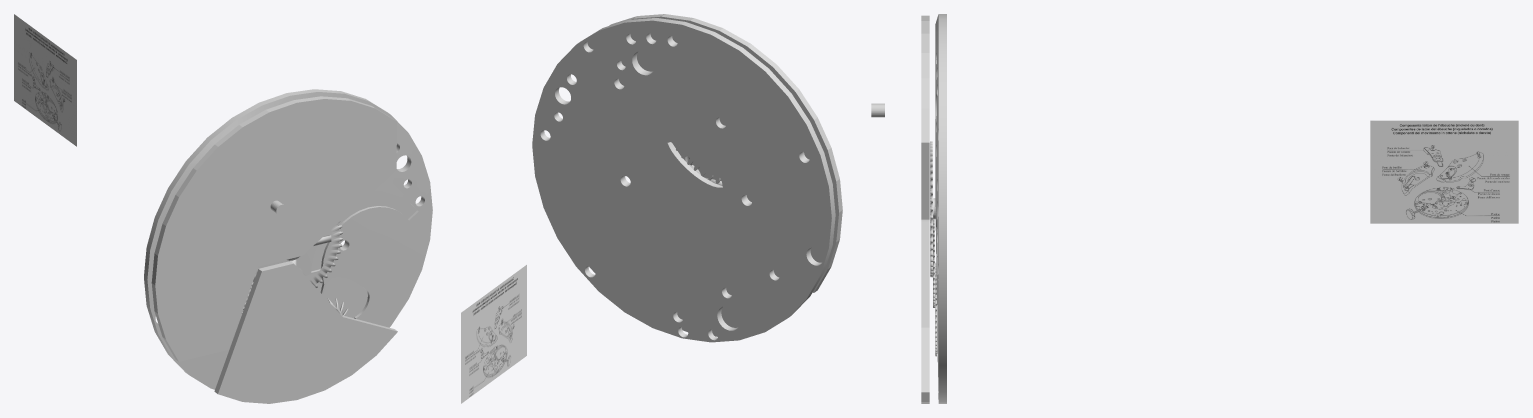
File: ExoWatch13.glb
The picture shows the model from 3 angles, left to right: view 1: azimuth 30°, elevation 25°; view 2: azimuth 150°, elevation 25°; view 3: azimuth 270°, elevation 25°; orthographic projection. The views are drawn at different scales.
Visible parts, largest first — view 1: Main Cache, Platine, Second Cache, platinesetponts-1024x783, Center Wheel; view 2: Platine, platinesetponts-1024x783, Main Cache, Circle.003, Second Cache; view 3: platinesetponts-1024x783, Platine, Main Cache, Second Cache.
Boxes of the visible parts, x1,y1,x2,y2 form: Main Cache: (151,96,396,361); Platine: (144,89,432,389); Second Cache: (214,261,397,403); platinesetponts-1024x783: (14,14,76,146); Center Wheel: (251,221,342,287); Platine: (532,18,835,342); platinesetponts-1024x783: (461,265,526,403); Main Cache: (587,14,842,292); Circle.003: (677,117,725,176); Second Cache: (589,266,740,336); platinesetponts-1024x783: (1370,120,1518,223); Platine: (935,14,946,403); Main Cache: (921,15,929,219); Second Cache: (921,219,929,403).
Size of the model in its own units: 3.44 by 3.44 by 5.7.
Materials: 1 (1 with a texture image).
